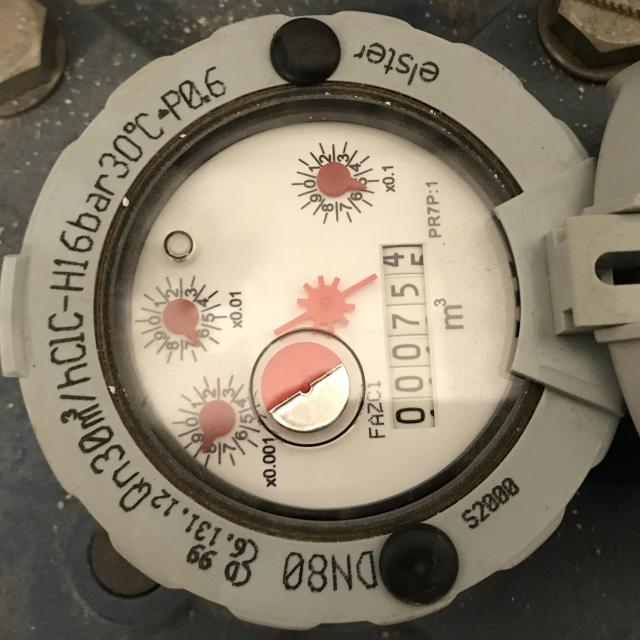gaz_meter: (129, 121, 515, 512)
indication: (377, 245, 436, 431)
